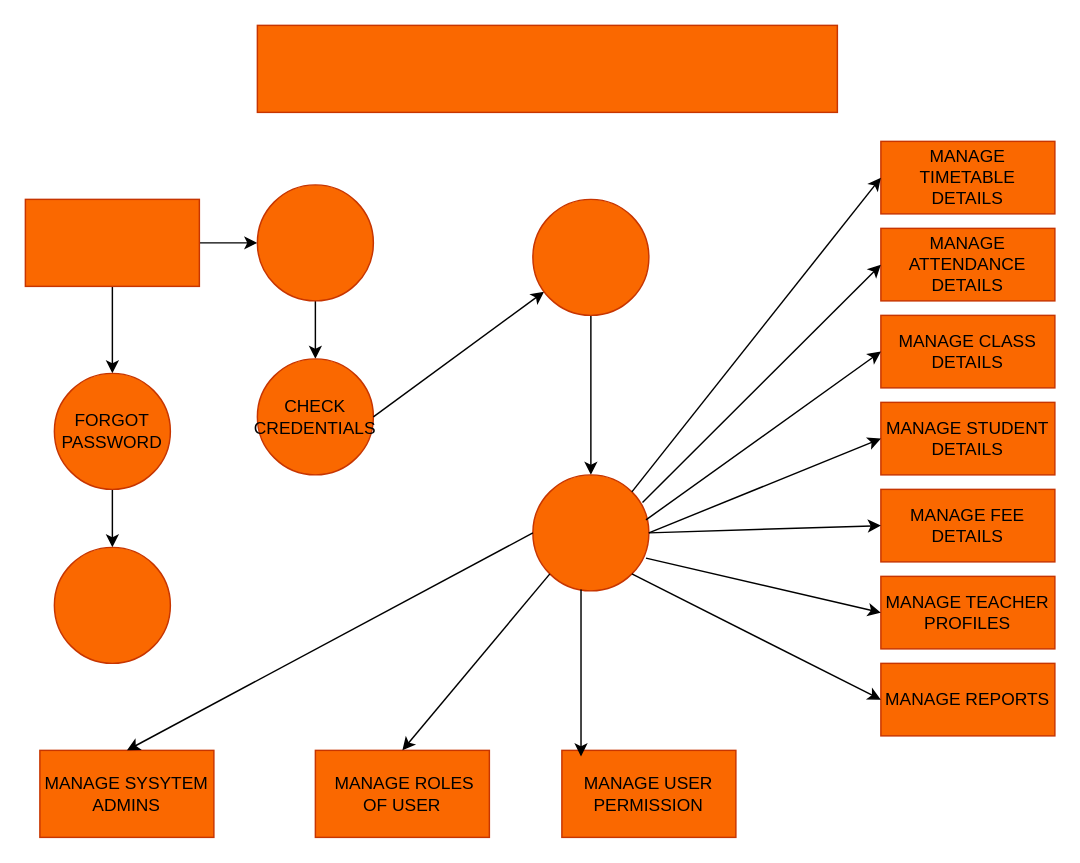
This 1080x863 diagram has some shape labels left out. Each missing label, with the centre of its shape:
"ADMIN" goes at (111,242).
"CHECK ROLES OF ACCESS" goes at (590,256).
"LPGIN TO SYSTEM" goes at (314,242).
"MANAGE MODULES" goes at (590,532).
"SEND EMAIL TO USER" goes at (111,604).
"STUDENT INFORMATION SYSTEM" goes at (546,68).
